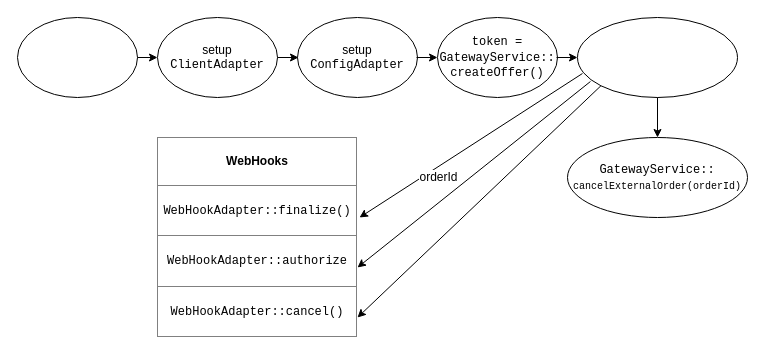
Some shapes in this 765 by 355 pixel diagram are drawn without their labels. The shapes that lost their labels are listed below. From the top down, each one's box as (x1, y1, x2, y2) in pixels, then its label:
(16, 16, 138, 98): setup OrderAdapter
(576, 16, 738, 98): orderId = GatewayService:: executeOffer(token)
